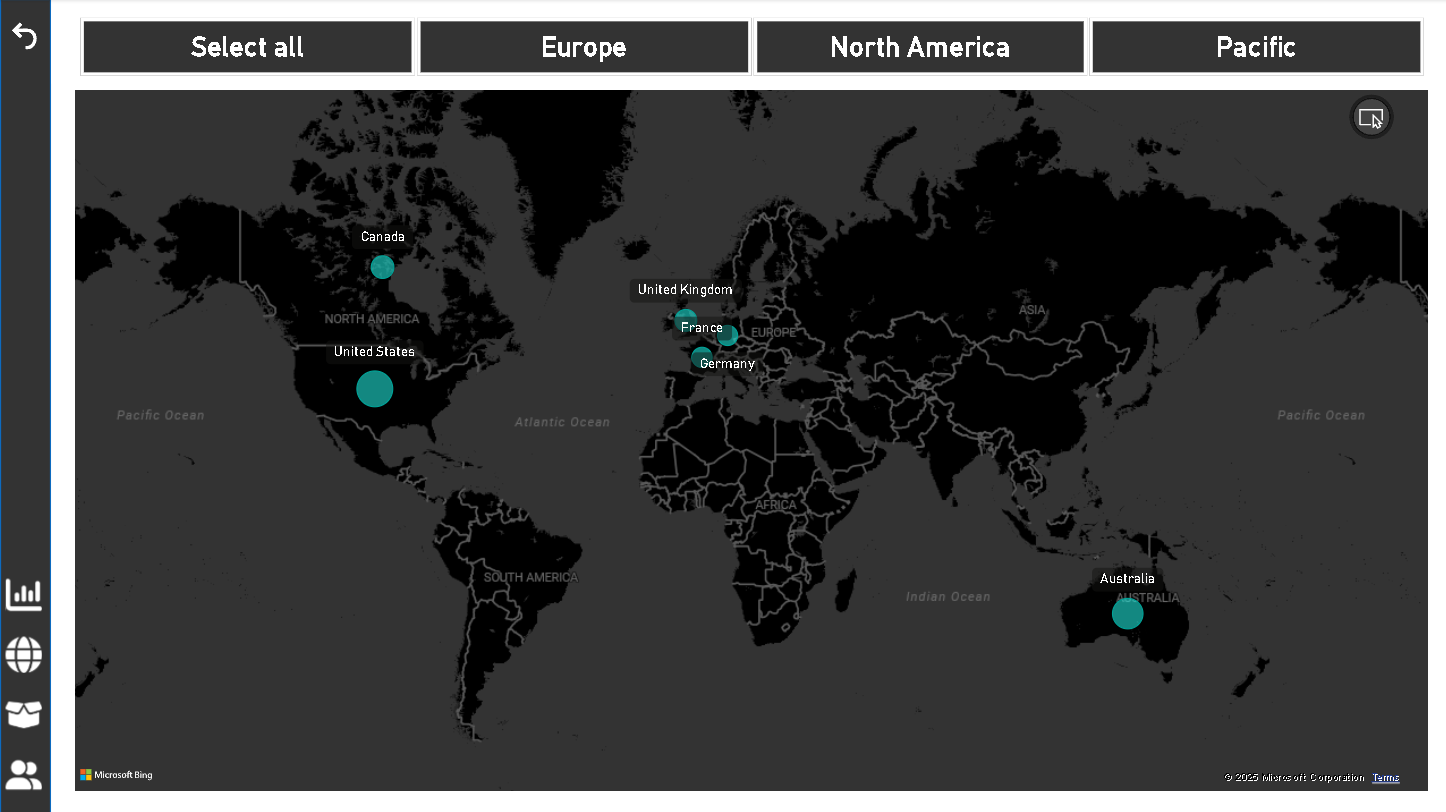

What the dashboard file says about the page in this screenshot:
{"tool":"powerbi","page":{"name":"Map","canvas":[1280,720],"ordinal":1},"visuals":[{"type":"shape","box":[0,0,45,720],"z":0},{"type":"map","fields":{"Category":["Territory Lookup.Country"],"Size":["Measure Table.Total Order"]},"box":[61.2,75,1203.8,628.8],"z":1000},{"type":"slicer","fields":{"Values":["Territory Lookup.Continent"]},"box":[45,10,1235,65],"z":2000},{"type":"actionButton","box":[4.9,15.9,35.5,33],"z":3000},{"type":"actionButton","box":[1.2,505.3,45.2,40.4],"z":4000},{"type":"actionButton","box":[1.2,558.3,45.2,40.4],"z":5000},{"type":"actionButton","box":[1.2,611.3,45.2,40.4],"z":6000},{"type":"actionButton","box":[1.2,664.3,45.2,40.4],"z":7000}]}

Visuals, with their boxes on the page's 1280x720 design canvas (x1, y1, x2, y2). These are canvas units, not pixel positions in the 1446x812 screenshot, which may show the page scaled, cropped or inside an application window:
shape: l=0, t=0, r=45, b=720
map - Territory Lookup.Country x Measure Table.Total Order: l=61, t=75, r=1265, b=704
slicer - Territory Lookup.Continent: l=45, t=10, r=1280, b=75
actionButton: l=5, t=16, r=40, b=49
actionButton: l=1, t=505, r=46, b=546
actionButton: l=1, t=558, r=46, b=599
actionButton: l=1, t=611, r=46, b=652
actionButton: l=1, t=664, r=46, b=705
